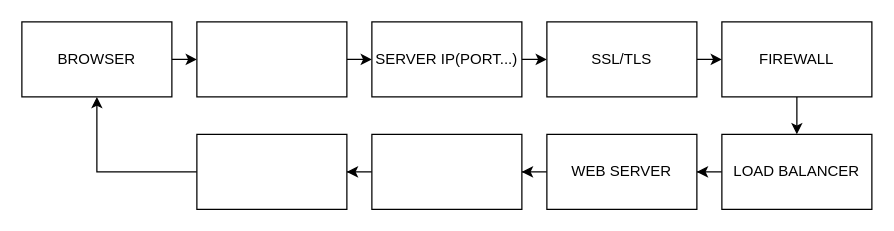
Image size: 894x231. Some labels were removed from this diagram. The centre of each missing label's shape, as x and y in pixels:
"APPLICATION SERVER" belongs at [446,171].
"DATABASE" belongs at [271,171].
"DNS RESOLVER" belongs at [271,59].
